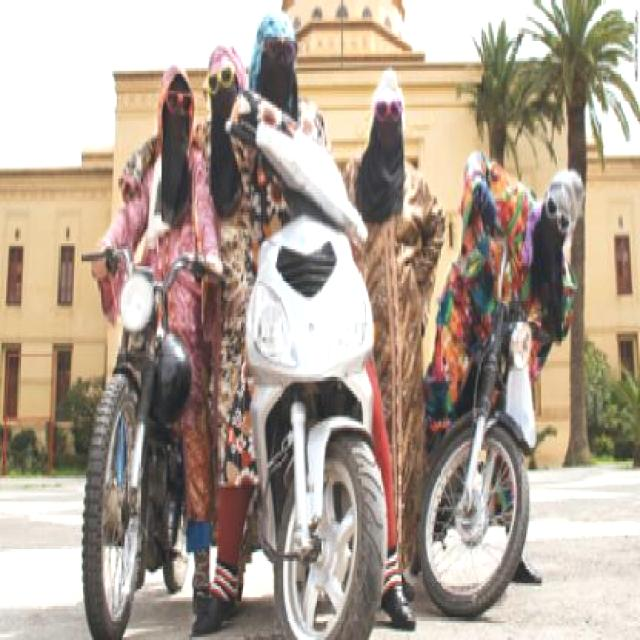Without Helmet: (536, 125, 590, 249), (248, 5, 309, 100), (152, 47, 198, 144), (151, 54, 198, 141), (368, 57, 408, 137)
